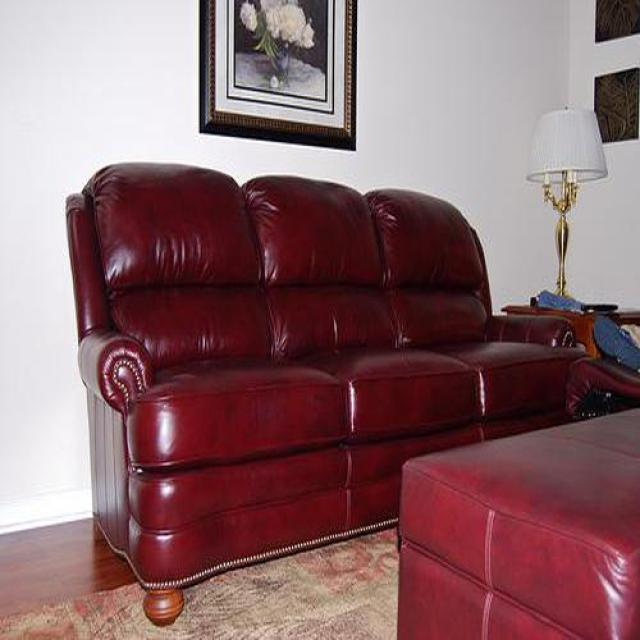sofa: (65, 165, 640, 625)
